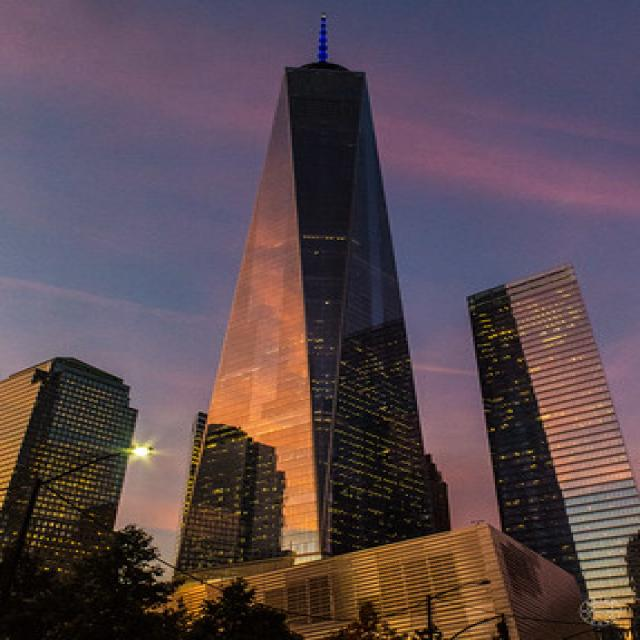Normal_building: (166, 51, 454, 602), (462, 255, 631, 638)
